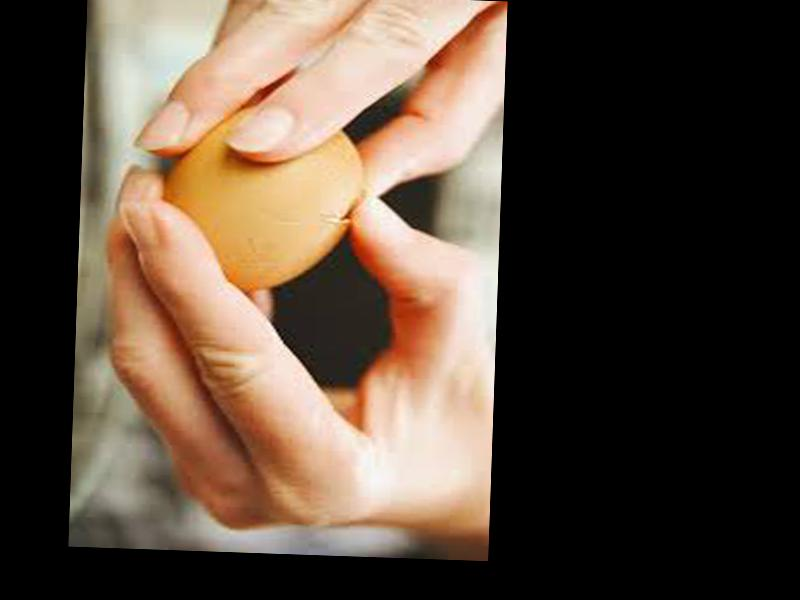Eggs: (157, 101, 368, 294)
